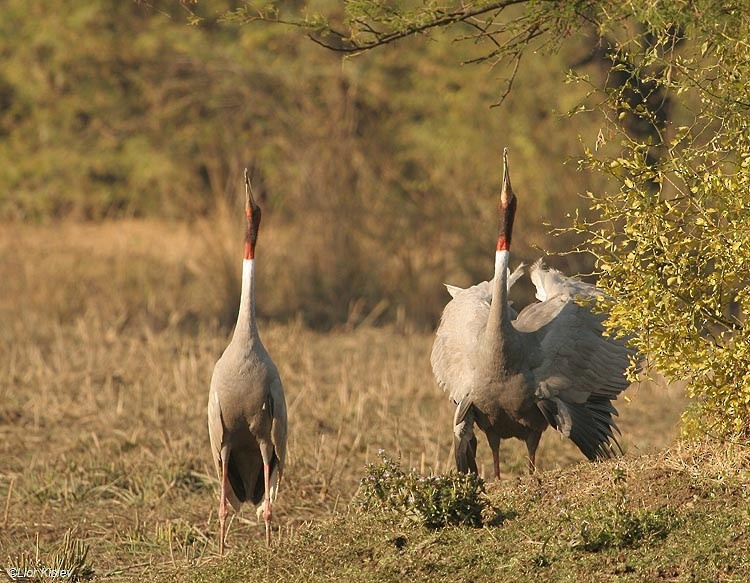crane: (425, 139, 641, 480), (205, 165, 299, 545)
